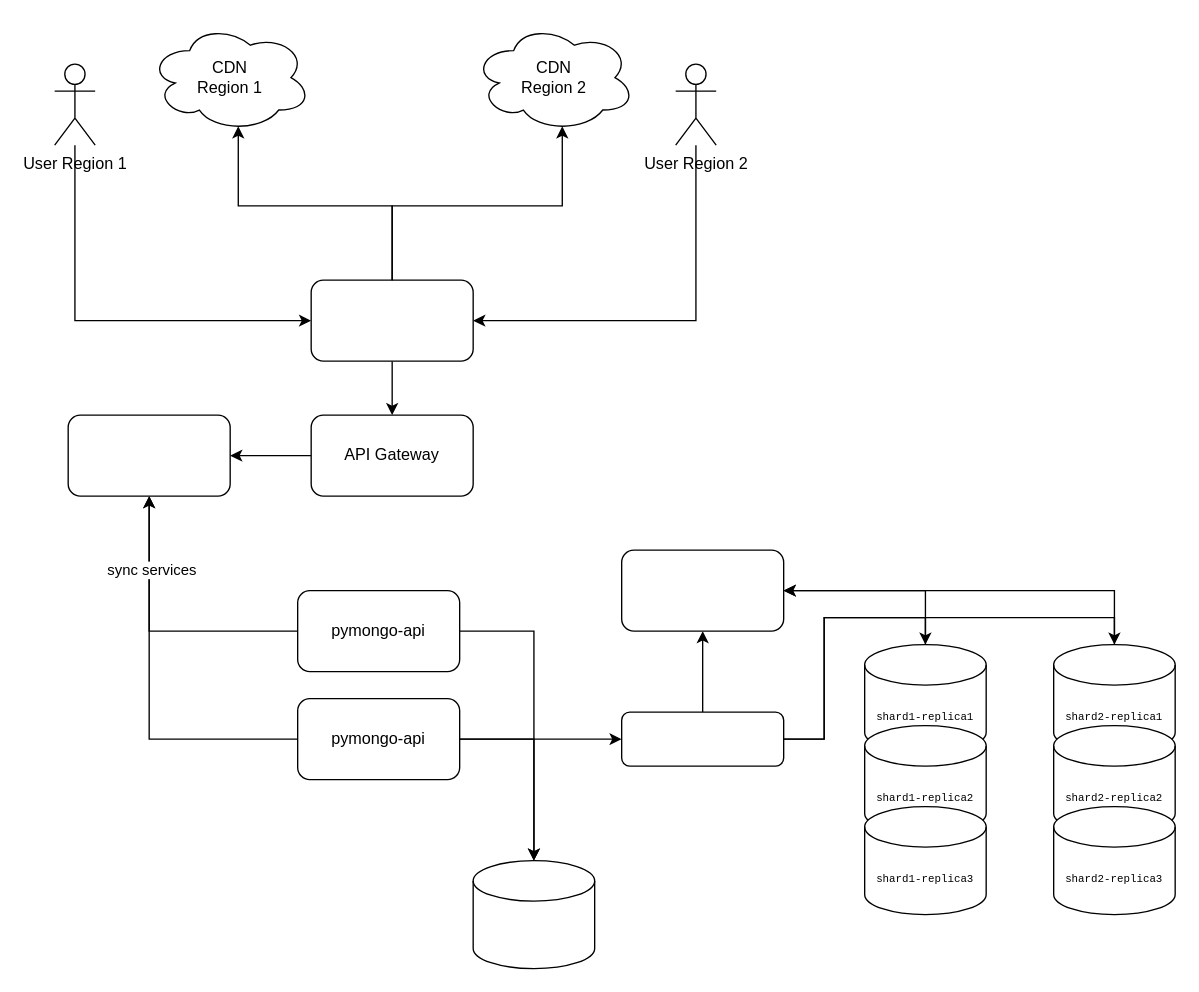
Some shapes in this 1199 by 992 pixel diagram are drawn without their labels. The shapes that lost their labels are listed below. From the top down, each one's centre as x and y in pixels, then its label:
At point 391,320: "Web App".
At point 148,455: "consul".
At point 702,590: "configSrv".
At point 702,738: "mongos_router".
At point 533,914: "redis".
